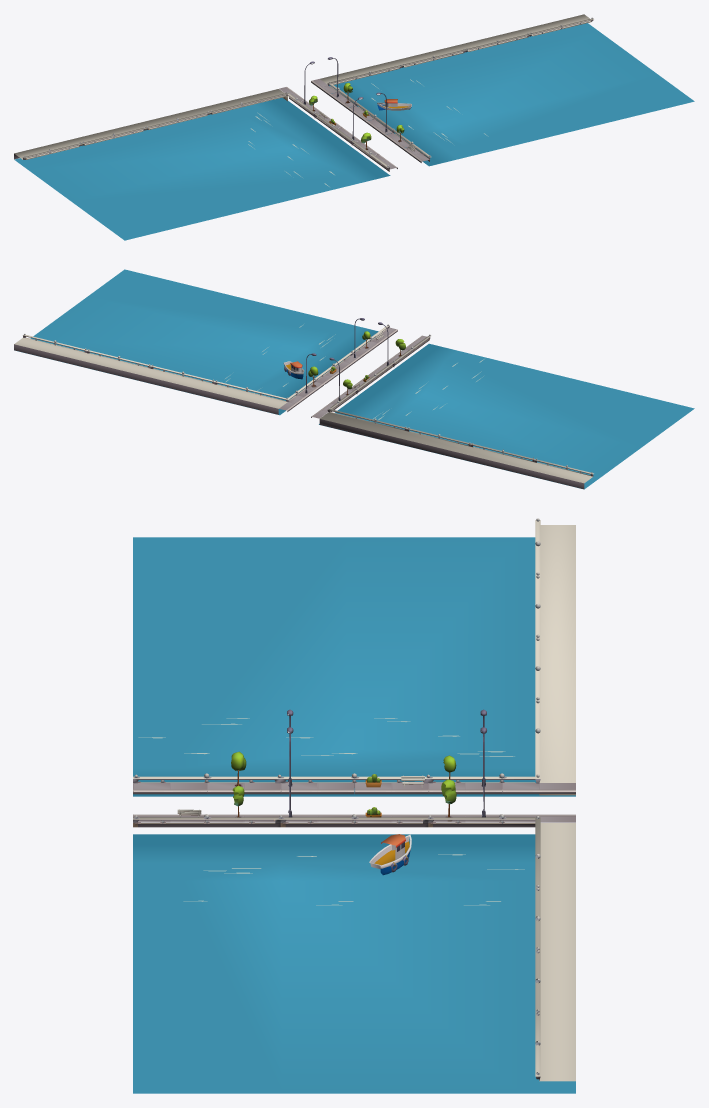
File: Tom1_ParkRiverBridgeSetStart_30 1.fbx
3 renders of one model, top to bottom at view 1: azimuth 30°, elevation 25°; view 2: azimuth 150°, elevation 25°; view 3: azimuth 270°, elevation 25°, orthographic. The views are drawn at different scales.
Parts seen in each view (by area): view 1: Tom1_ParkRiverBridgeSetStart_30; view 2: Tom1_ParkRiverBridgeSetStart_30; view 3: Tom1_ParkRiverBridgeSetStart_30.
Boxes of the visible parts, x1=… form: Tom1_ParkRiverBridgeSetStart_30: x1=14, y1=14, x2=694, y2=240; Tom1_ParkRiverBridgeSetStart_30: x1=14, y1=269, x2=694, y2=489; Tom1_ParkRiverBridgeSetStart_30: x1=133, y1=518, x2=575, y2=1093.
Size of the model in its own units: 8921 by 717 by 3000.
